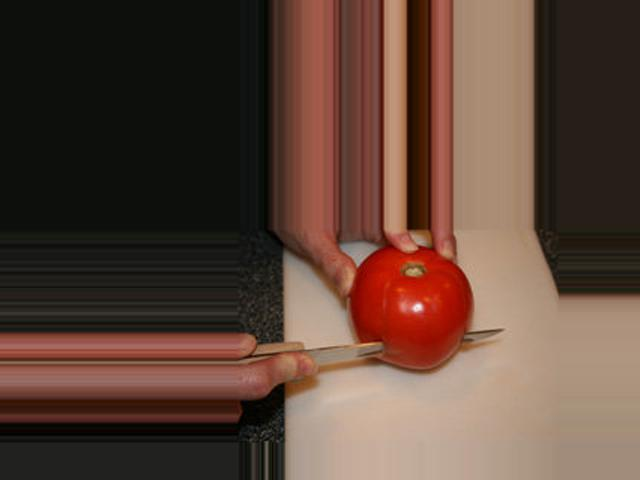tomato: (350, 244, 474, 369)
